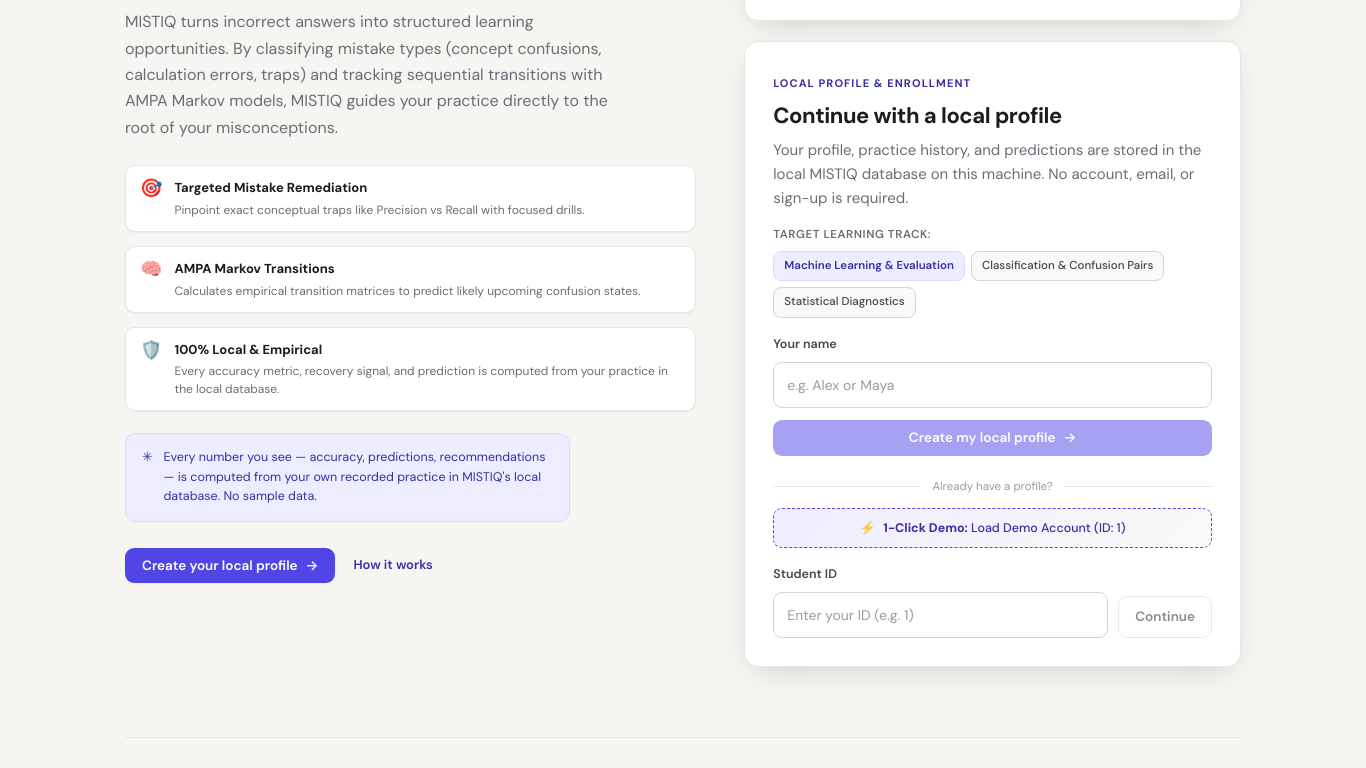
MISTIQ student app › loads the dashboard with progress and recent mistake data
(page scrolled)
Type "Sam Learner" into the field labelled "Your name". click: (993, 385)
box: 773,362 -> 1212,408
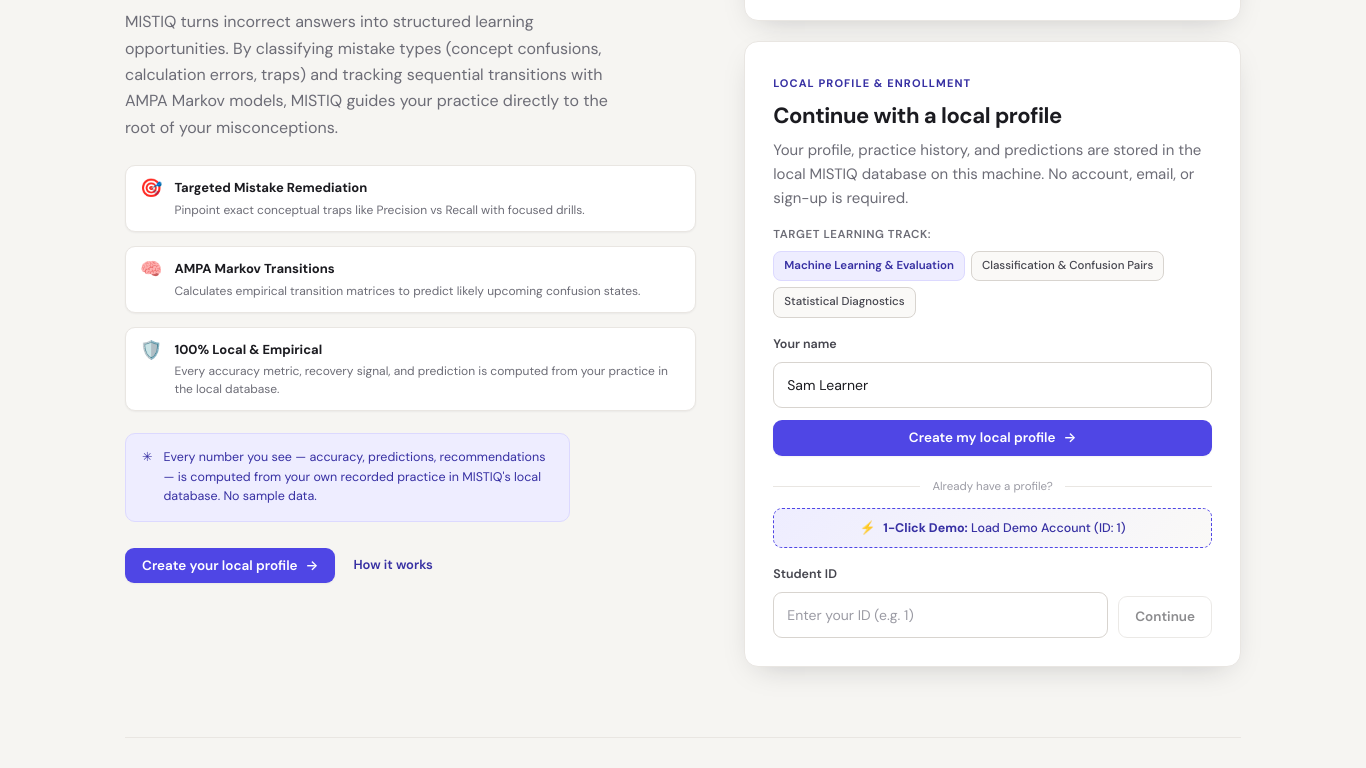
Click the button "Create my local profile →". click: (993, 438)
box: 773,420 -> 1212,456
(page scrolled)
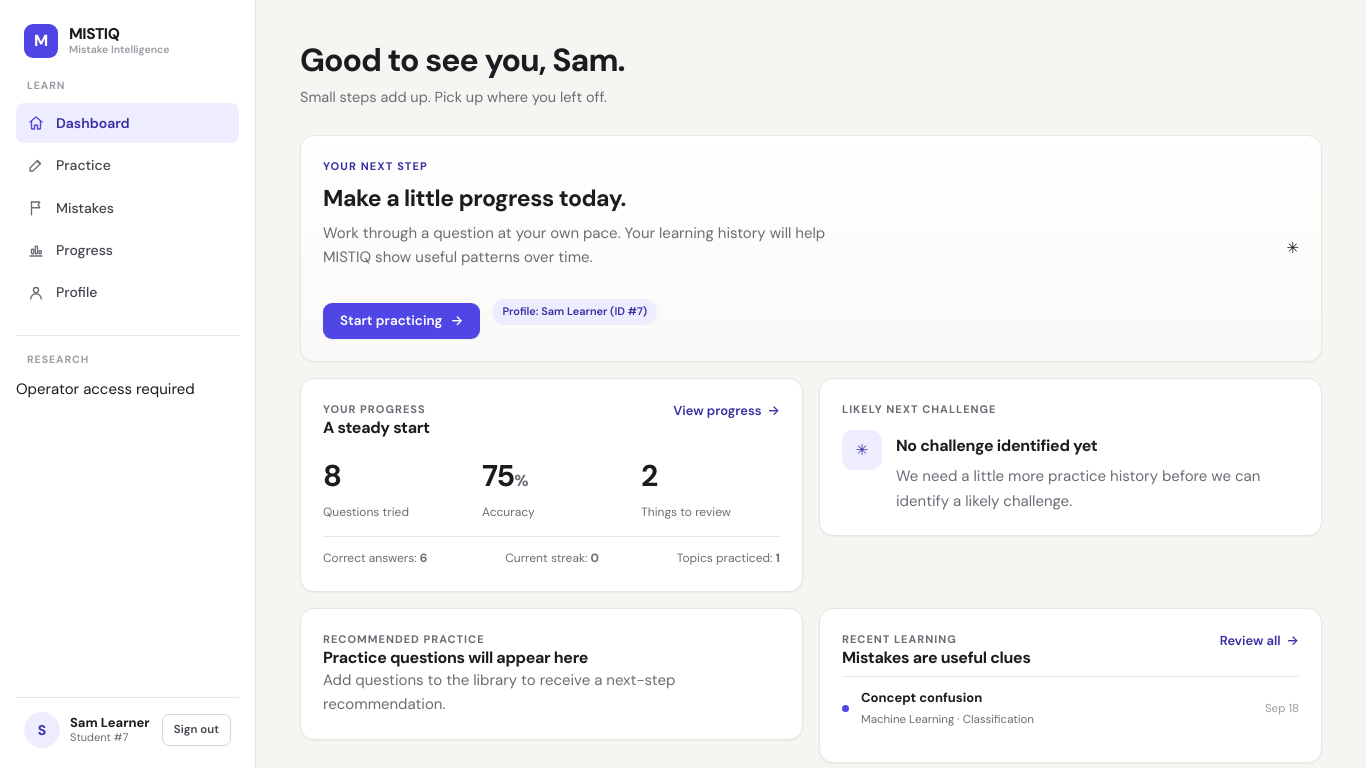
Check: the heading "Good to see you, Sam." is shown, box 300,40 -> 625,80
Check: the text "75" is shown, box 482,456 -> 514,495
Check: the heading "No challenge identified yet" is shown, box 896,435 -> 1098,456
